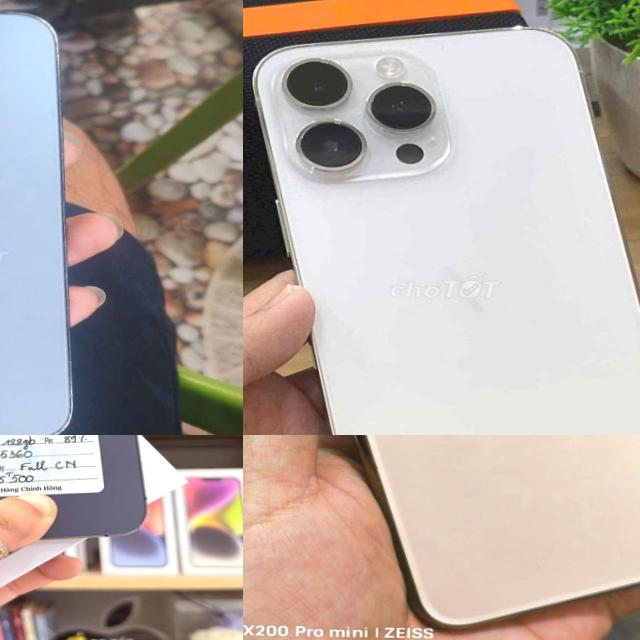gen_11: (243, 435, 640, 635)
gen_12_13: (0, 2, 85, 435)
gen_14: (243, 18, 640, 435), (0, 435, 166, 553)
